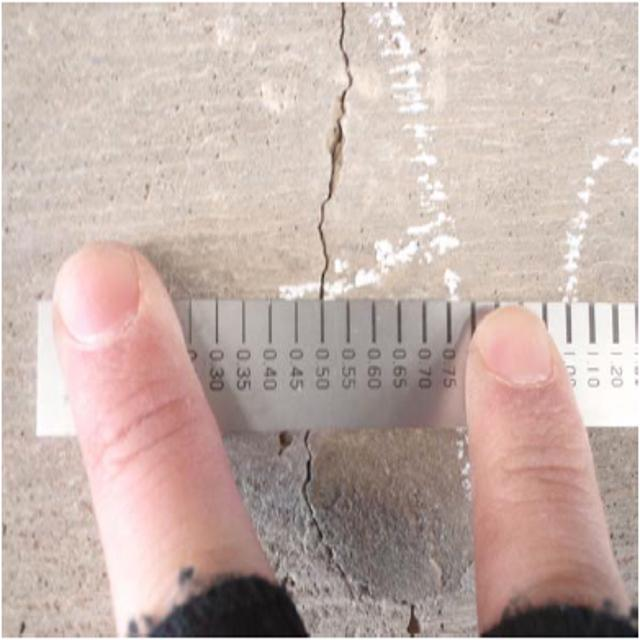crack: (270, 433, 431, 628), (306, 3, 364, 328)
